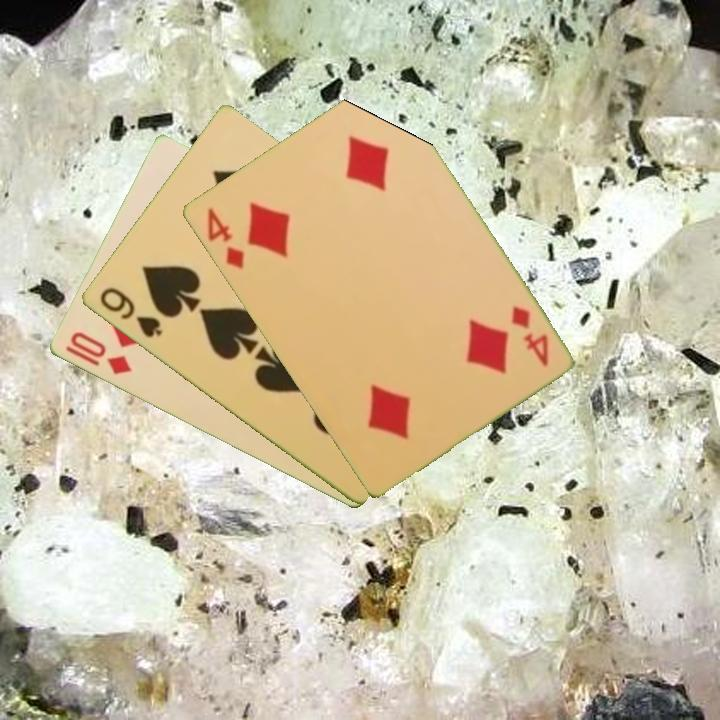10d: (66, 328, 134, 378)
4d: (506, 302, 551, 369), (203, 204, 247, 272)
9s: (95, 283, 165, 341)
